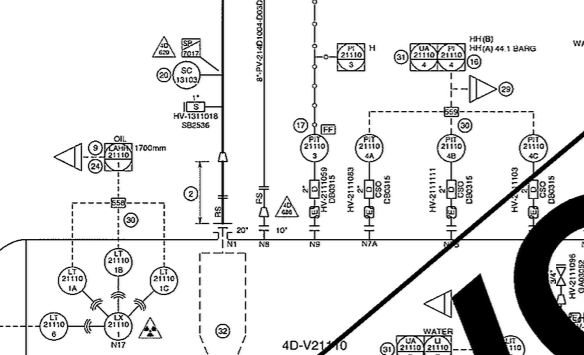Instrument: (97, 243, 136, 278), (516, 127, 549, 167), (352, 131, 387, 167), (296, 132, 333, 166), (145, 263, 180, 298), (55, 263, 91, 297), (102, 310, 135, 347), (170, 59, 204, 93), (36, 310, 71, 343), (434, 130, 466, 165)
Instrument-square: (331, 38, 368, 75), (102, 140, 136, 174), (406, 39, 438, 74), (436, 41, 469, 74)
